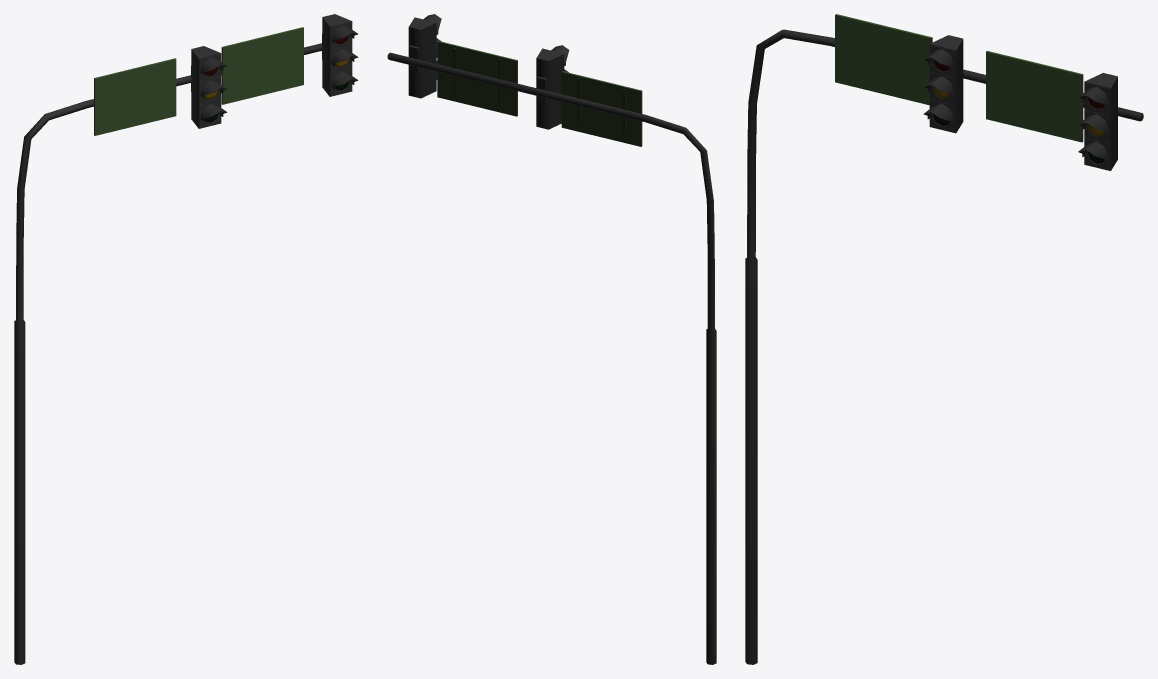
The model's file is CurvedTrafficLight_DoubleSign.fbx.
3 views of the same model, side by side, from view 1: azimuth 30°, elevation 25°; view 2: azimuth 150°, elevation 25°; view 3: azimuth 330°, elevation 25° (orthographic). The views are drawn at different scales.
Visible parts, largest first — view 1: CurvedTrafficLight_DoubleSign; view 2: CurvedTrafficLight_DoubleSign; view 3: CurvedTrafficLight_DoubleSign.
Part boxes in pixels (x1,y1,x2,y2): CurvedTrafficLight_DoubleSign: (14,14,358,664); CurvedTrafficLight_DoubleSign: (387,14,716,664); CurvedTrafficLight_DoubleSign: (745,14,1143,664).
Size of the model in its own units: 478 by 781 by 65.86.
